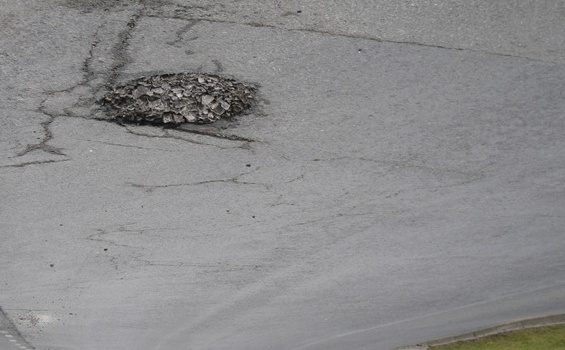pothole: (109, 74, 259, 133)
